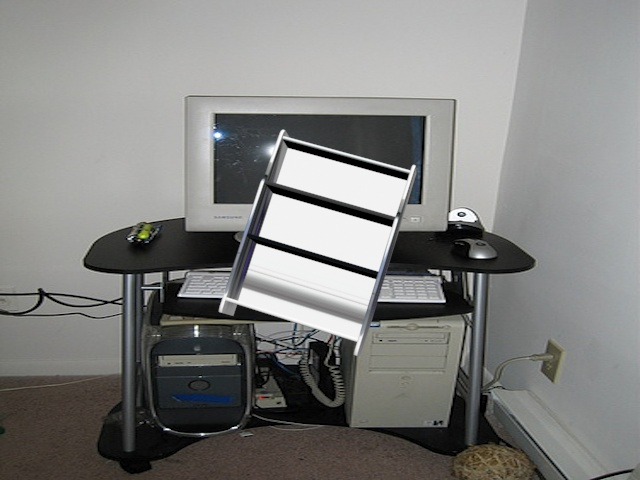bookcase: (217, 129, 424, 360)
